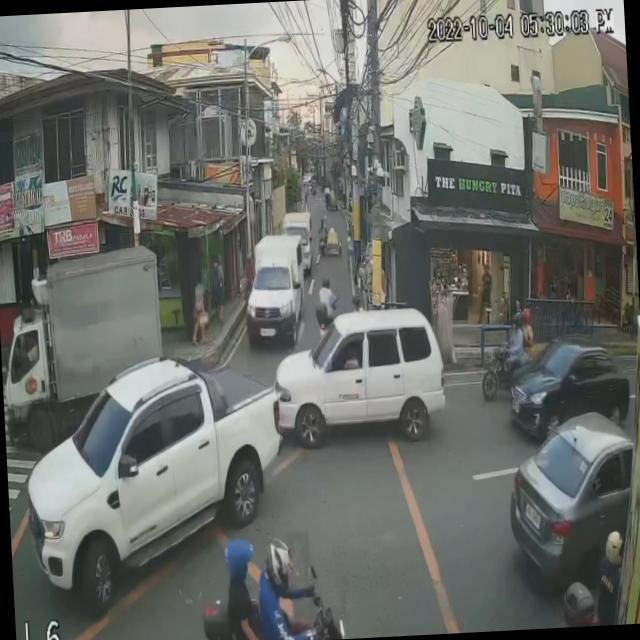full: (264, 538, 296, 596), (604, 530, 624, 568), (511, 309, 524, 332)
half: (224, 542, 255, 580)
